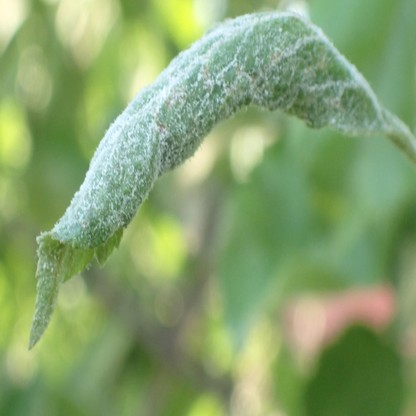powdery_mildew: (29, 12, 379, 350)
